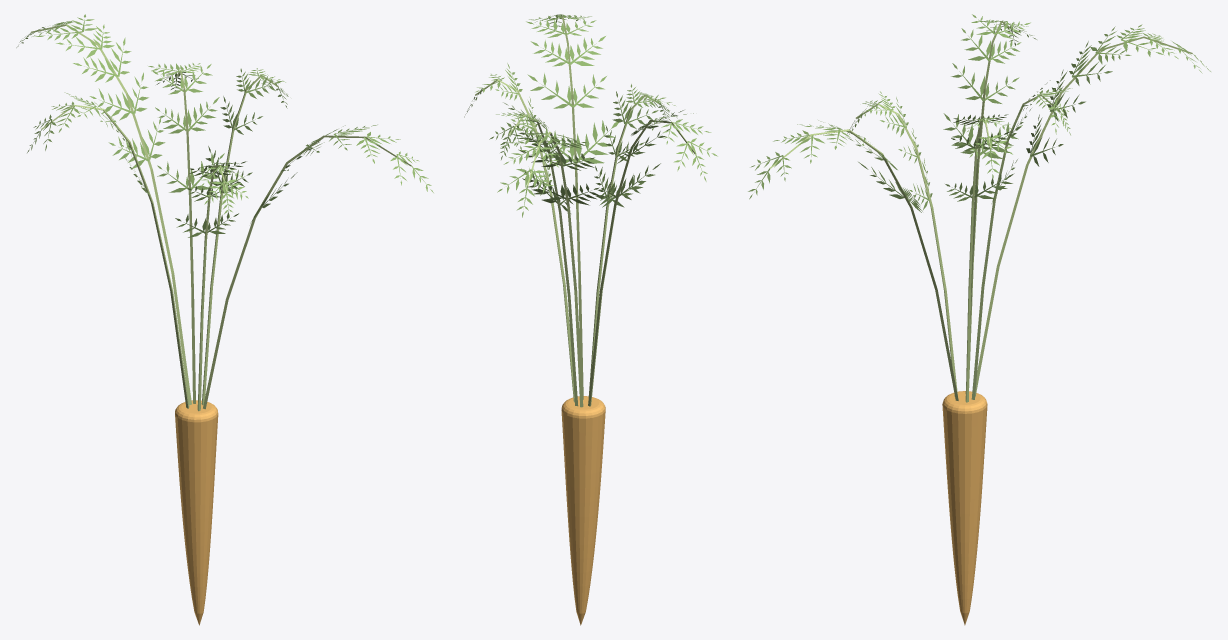
The model's file is carrot_harvest_v20.glb.
3 renders of one model, left to right at view 1: azimuth 30°, elevation 25°; view 2: azimuth 150°, elevation 25°; view 3: azimuth 270°, elevation 25°, orthographic. The views are drawn at different scales.
Parts seen in each view (by area): view 1: plant; view 2: plant; view 3: plant.
Part boxes in pixels (box(x1,y1,x2,y2)): plant: box(16, 14, 433, 625); plant: box(464, 14, 717, 625); plant: box(748, 14, 1210, 625).
Bounding box in the file's own units: 0.2625 × 0.489 × 0.365.
1 material, 1 textured.
